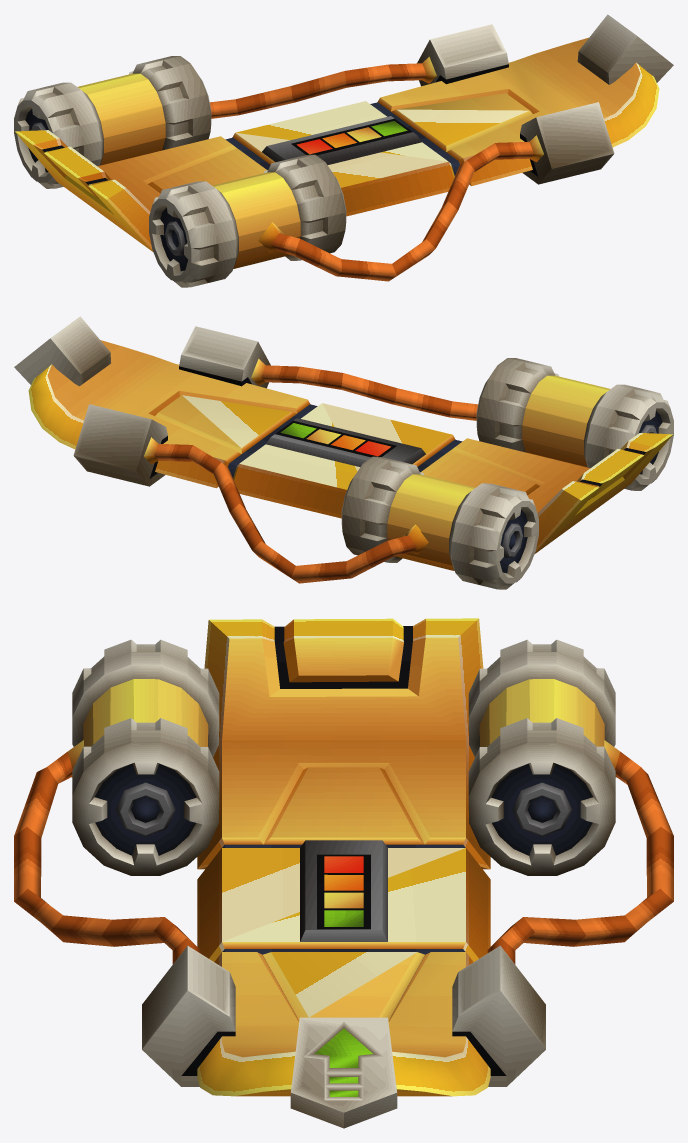
Rendered from Starterpack_Power2.glb.
The picture shows the model from 3 angles, top to bottom: view 1: azimuth 30°, elevation 25°; view 2: azimuth 150°, elevation 25°; view 3: azimuth 270°, elevation 25°; orthographic projection. The views are drawn at different scales.
Parts seen in each view (by area): view 1: Starterpack_Power2, StarterpackHUD_03; view 2: Starterpack_Power2, StarterpackHUD_03; view 3: Starterpack_Power2, StarterpackHUD_03.
Boxes of the visible parts, bbox=[...] form: Starterpack_Power2: bbox=[14, 14, 673, 287]; StarterpackHUD_03: bbox=[322, 127, 407, 147]; Starterpack_Power2: bbox=[14, 316, 673, 589]; StarterpackHUD_03: bbox=[280, 424, 365, 450]; Starterpack_Power2: bbox=[14, 618, 673, 1128]; StarterpackHUD_03: bbox=[324, 874, 363, 926].
Size of the model in its own units: 11.57 by 1.84 by 7.45.
1 material, 1 textured.
